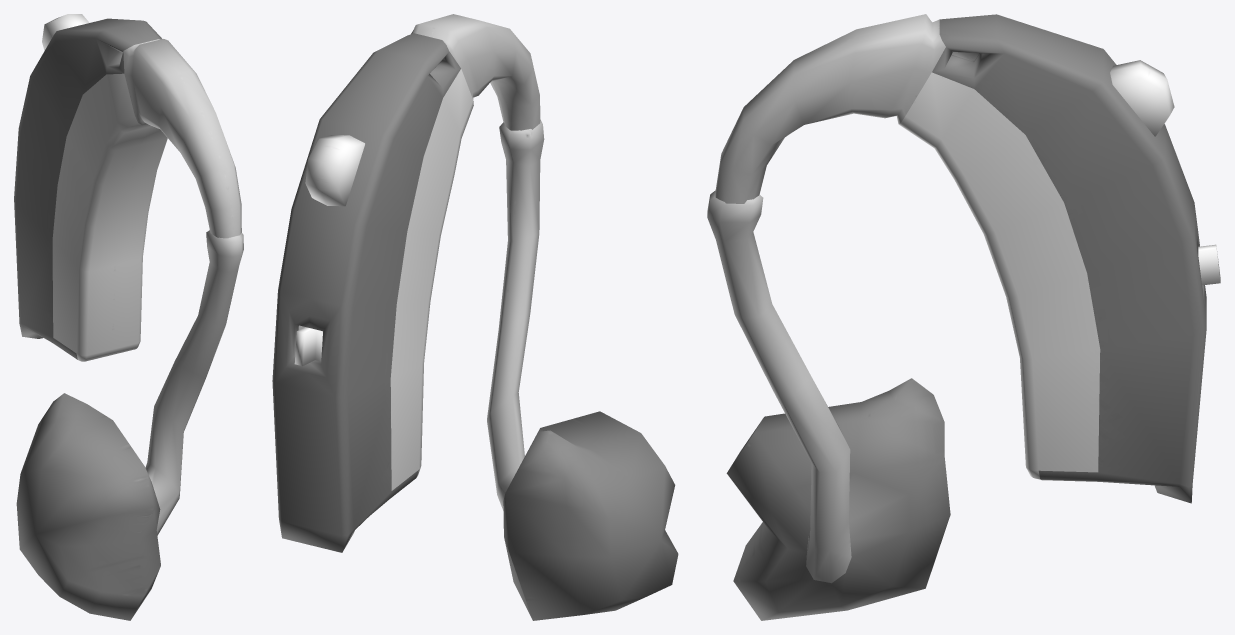
Rendered from OBJ-hearing_aids.glb.
3 renders of one model, left to right at view 1: azimuth 30°, elevation 25°; view 2: azimuth 150°, elevation 25°; view 3: azimuth 270°, elevation 25°, orthographic. The views are drawn at different scales.
Parts seen in each view (by area): view 1: Hearing Aids; view 2: Hearing Aids; view 3: Hearing Aids.
Boxes of the visible parts, x1,y1,x2,y2 form: Hearing Aids: (14,14,243,620); Hearing Aids: (272,14,678,620); Hearing Aids: (707,14,1220,620).
Size of the model in its own units: 0.0133 by 0.035 by 0.0249.
Materials: 1 (1 with a texture image).
